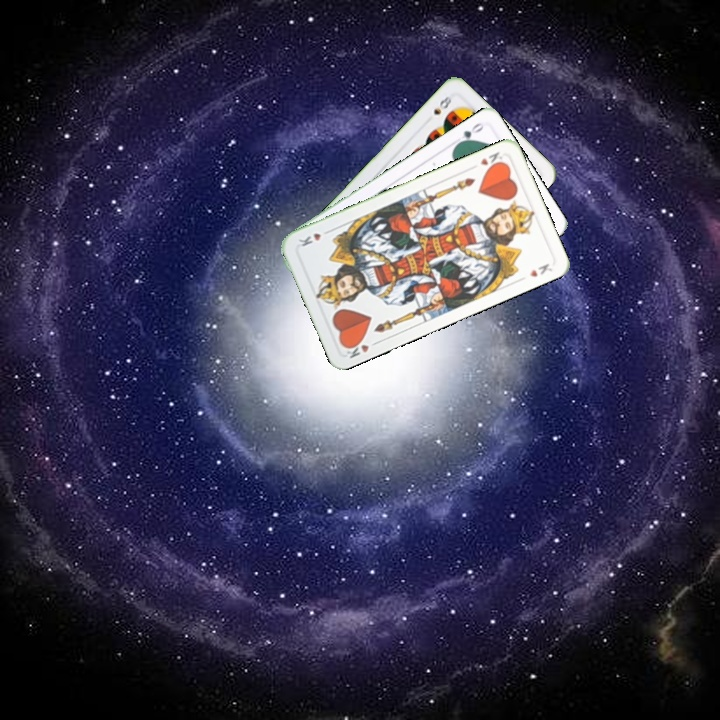GO: (452, 118, 487, 148)
HK: (341, 335, 381, 361), (476, 148, 506, 172)
S8: (429, 89, 454, 117)
